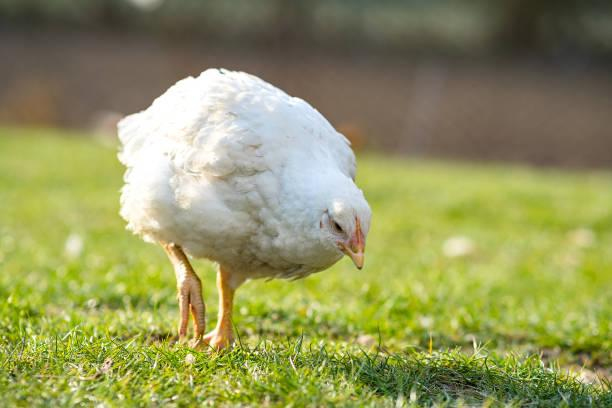AbNormal: (115, 69, 370, 350)
